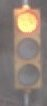Red: (11, 5, 45, 106)
